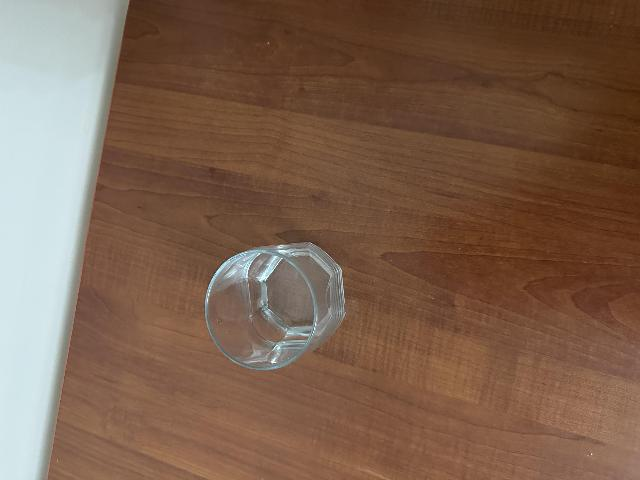Cam: (200, 238, 352, 376)
